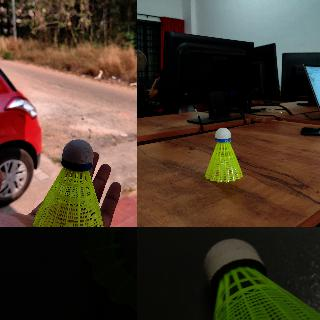shuttlecock: (204, 238, 319, 319), (32, 139, 104, 226), (82, 227, 136, 313), (204, 127, 243, 181)
